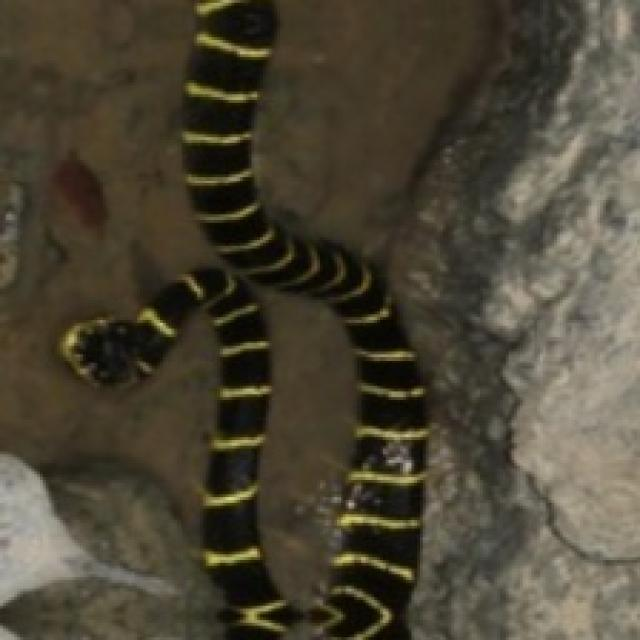mangrove cat snake: (60, 0, 426, 637)
